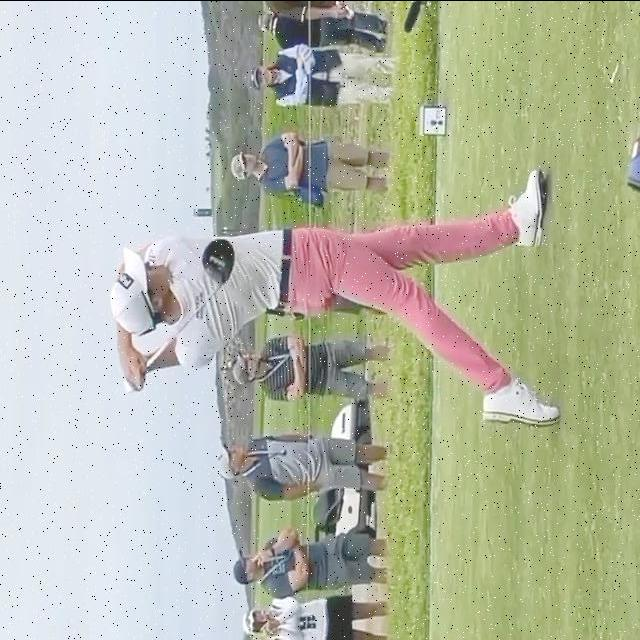golf club-handle: (146, 238, 235, 368)
golf club-head: (202, 238, 235, 284)
